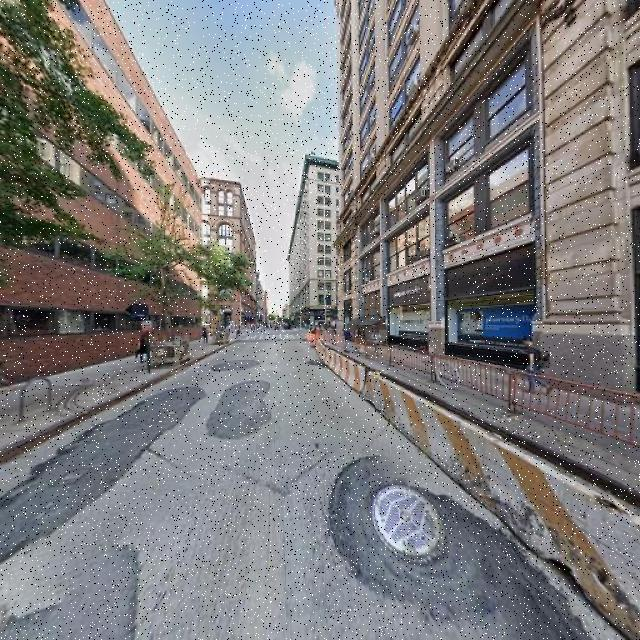Building: (297, 1, 640, 407), (1, 1, 198, 393), (202, 179, 255, 330)
